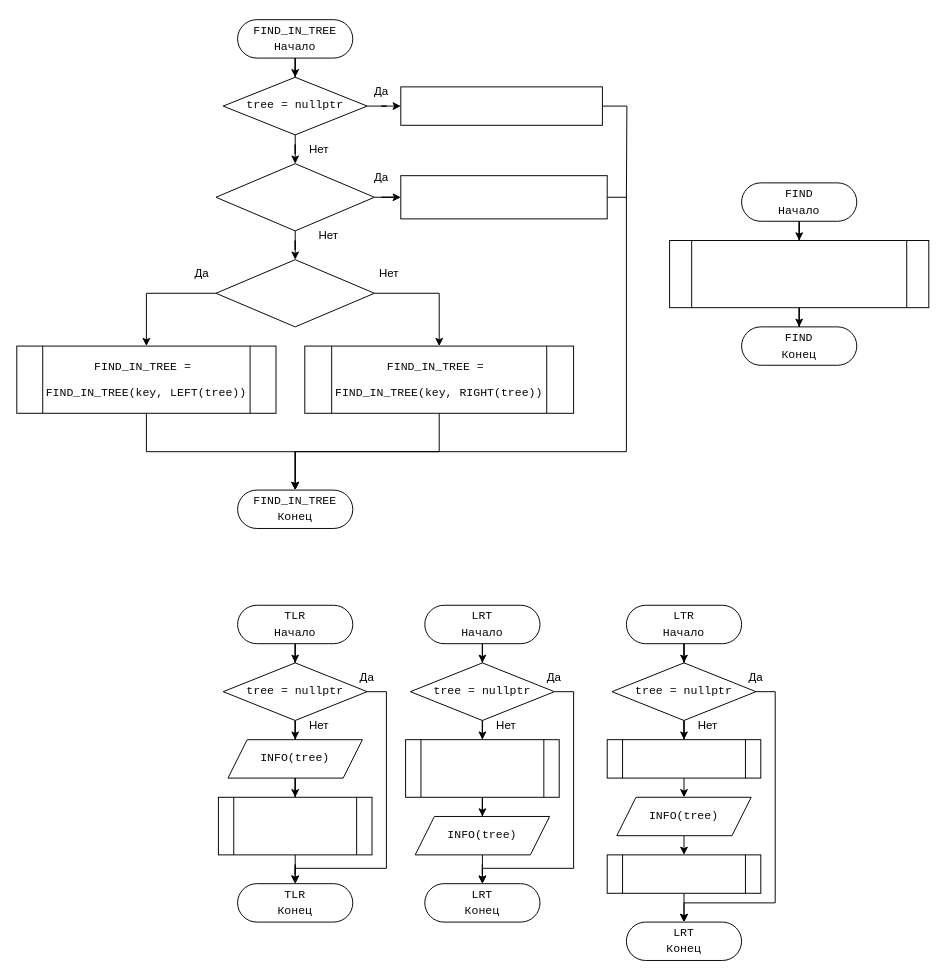
Image size: 946x979. Some labels were removed from this diagram. The centre of each missing label's shape, as x and y in pixels:
FIND_IN_TREE = -1: [501,105]
FIND_IN_TREE = tree->index: [503,197]
INFO(tree) = key: [294,197]
INFO(tree) > key: [294,293]
LRT(LEFT(tree)) LRT(RIGHT(tree)): [482,768]
LTR(LEFT(tree)): [683,758]
LTR(RIGHT(tree)): [683,873]
TLR(LEFT(tree)) TLR(RIGHT(tree)): [294,825]
tree = MAKE_TREE(data, n) FIND = FIND_IN_TREE(key, tree ): [799,274]
